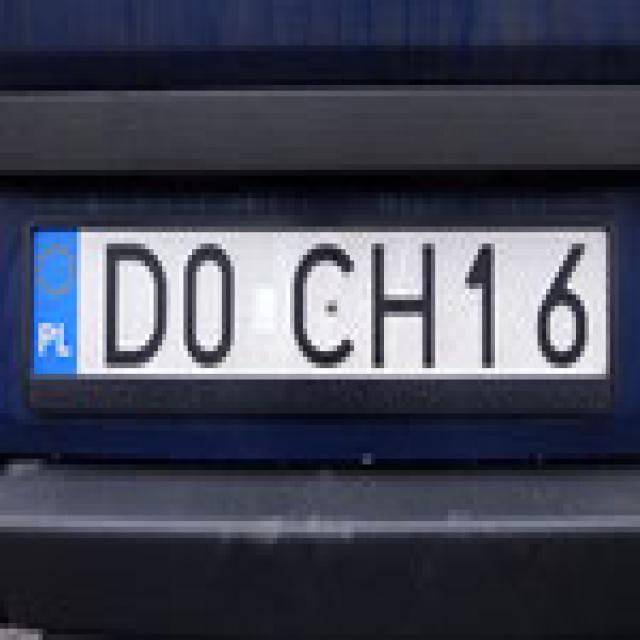pl_license_plate: (25, 221, 606, 374)
